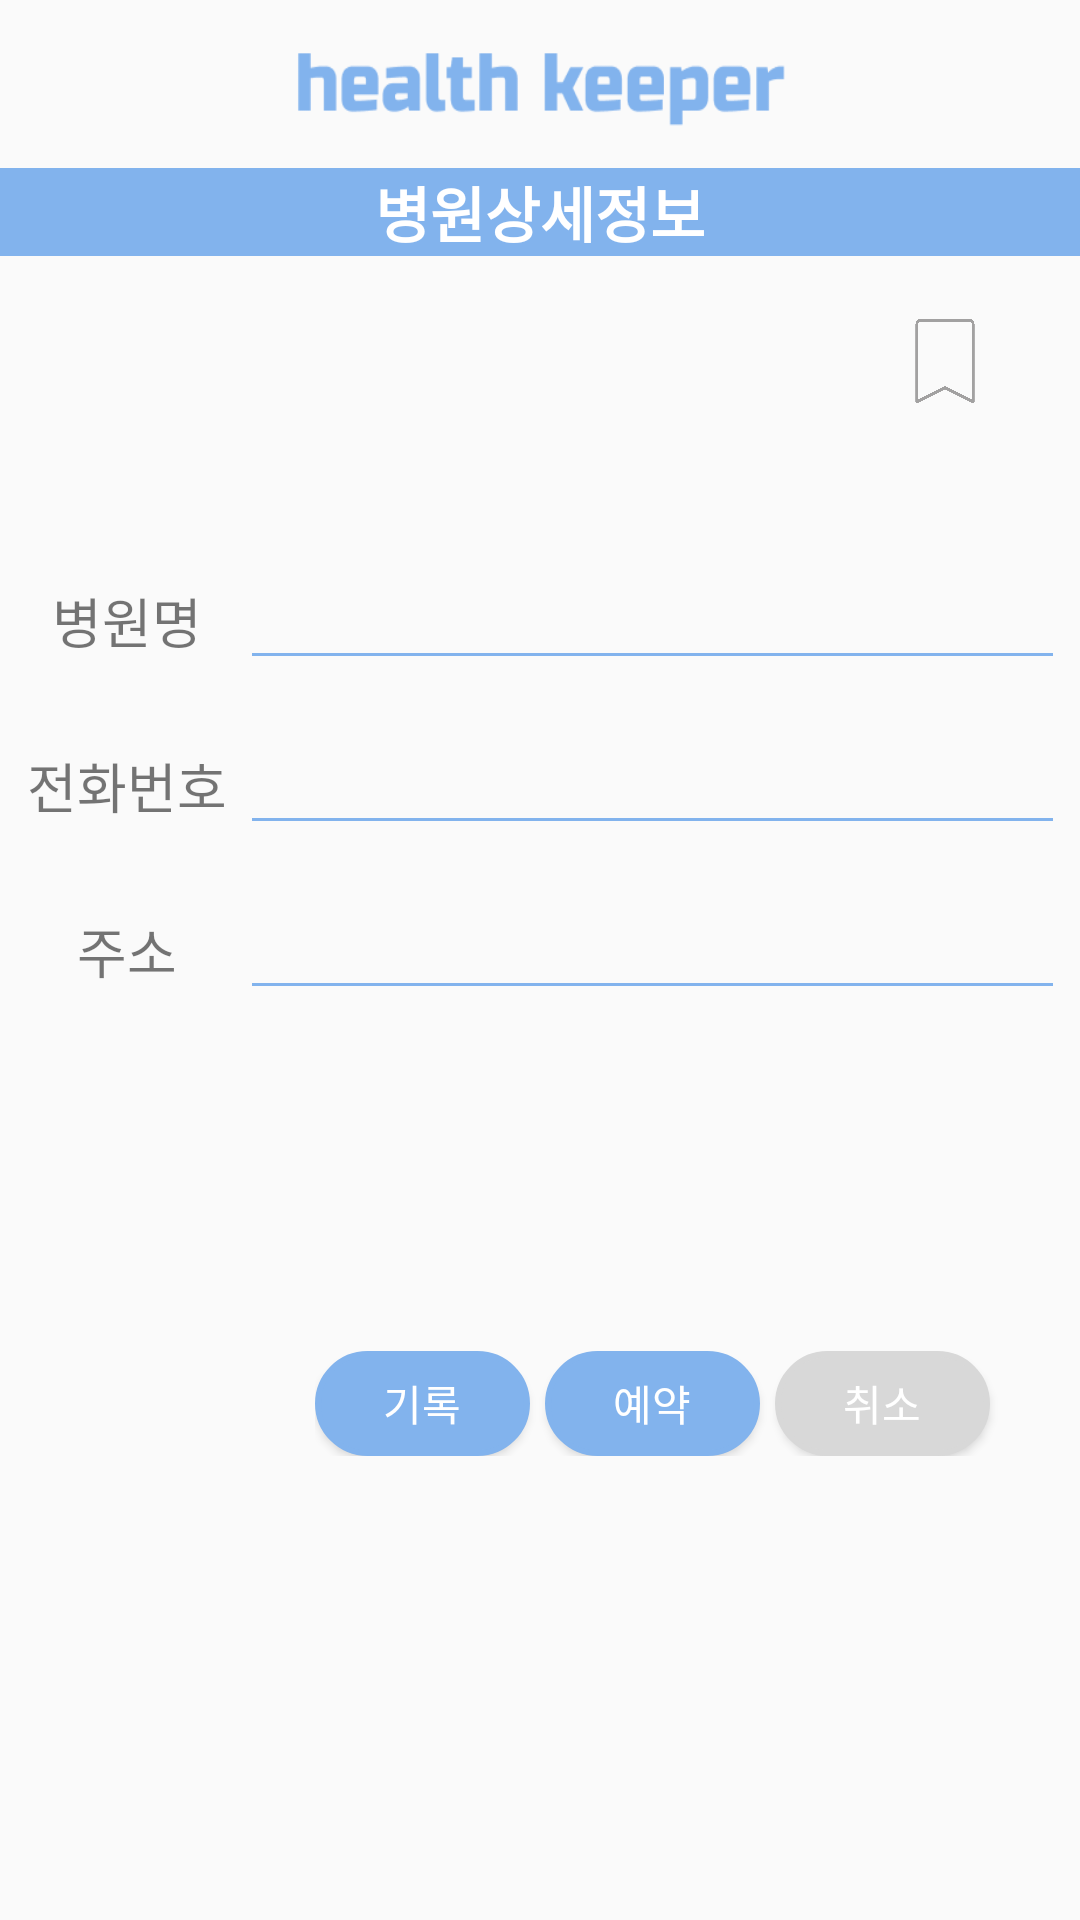

Icon bounding boxes for this 1080w x 1920h phone screenshot, format (left=x1, top=y1, right=x2, bottom=y2):
scrap: (left=915, top=319, right=975, bottom=403)
